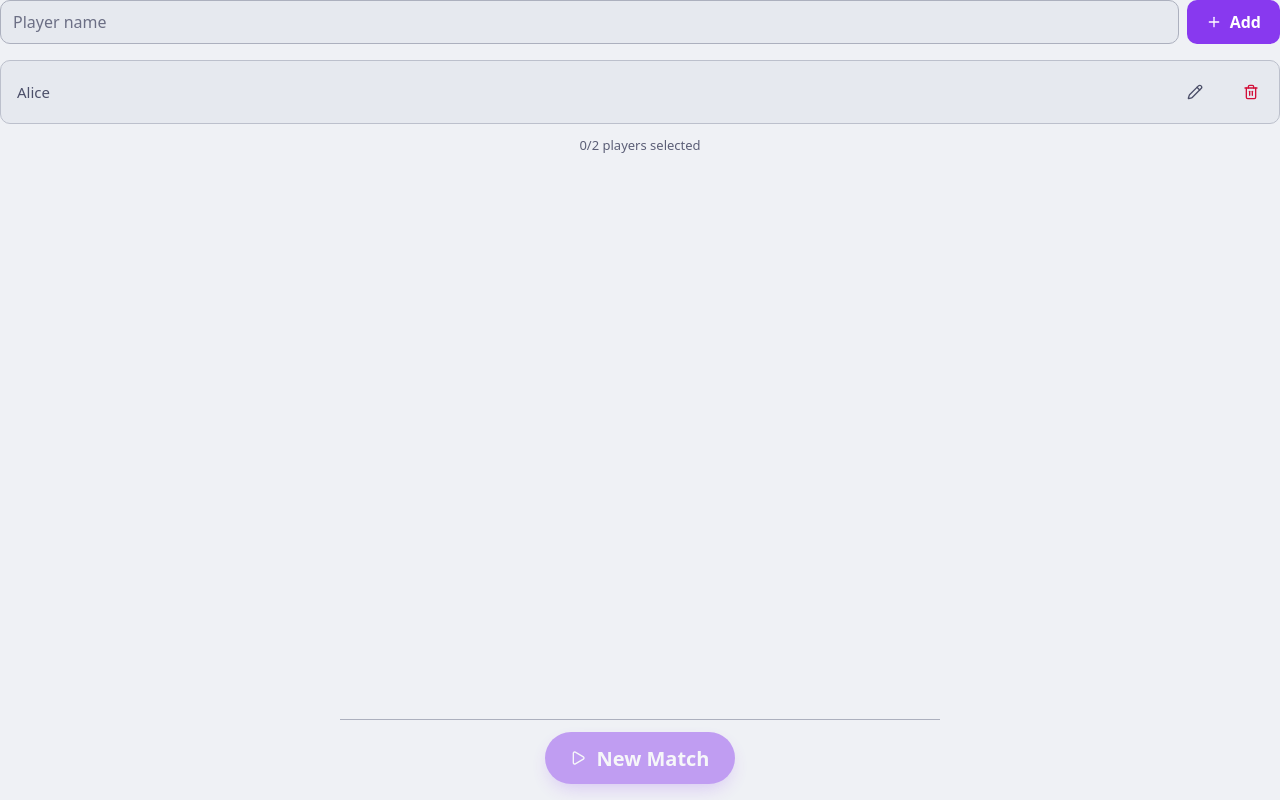
Test case: HomeScreen › deletes a player through the confirmation modal, preserving the name by default
Click the button named "Delete".
click(1251, 92)  # box [1223,61,1279,123]
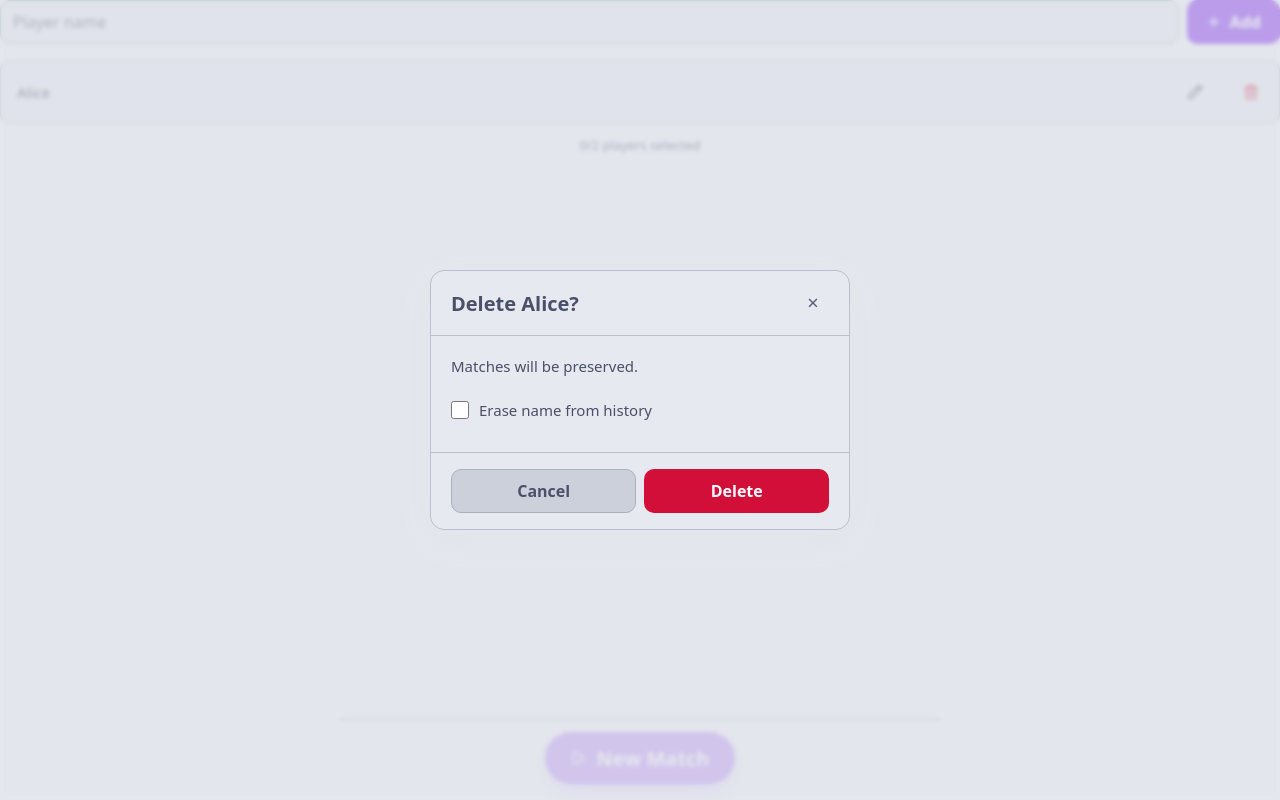
Now the heading "Delete Alice?" is shown, box [451,290,579,316]
Click the button "Delete".
click(737, 491)  # box [644,469,829,513]
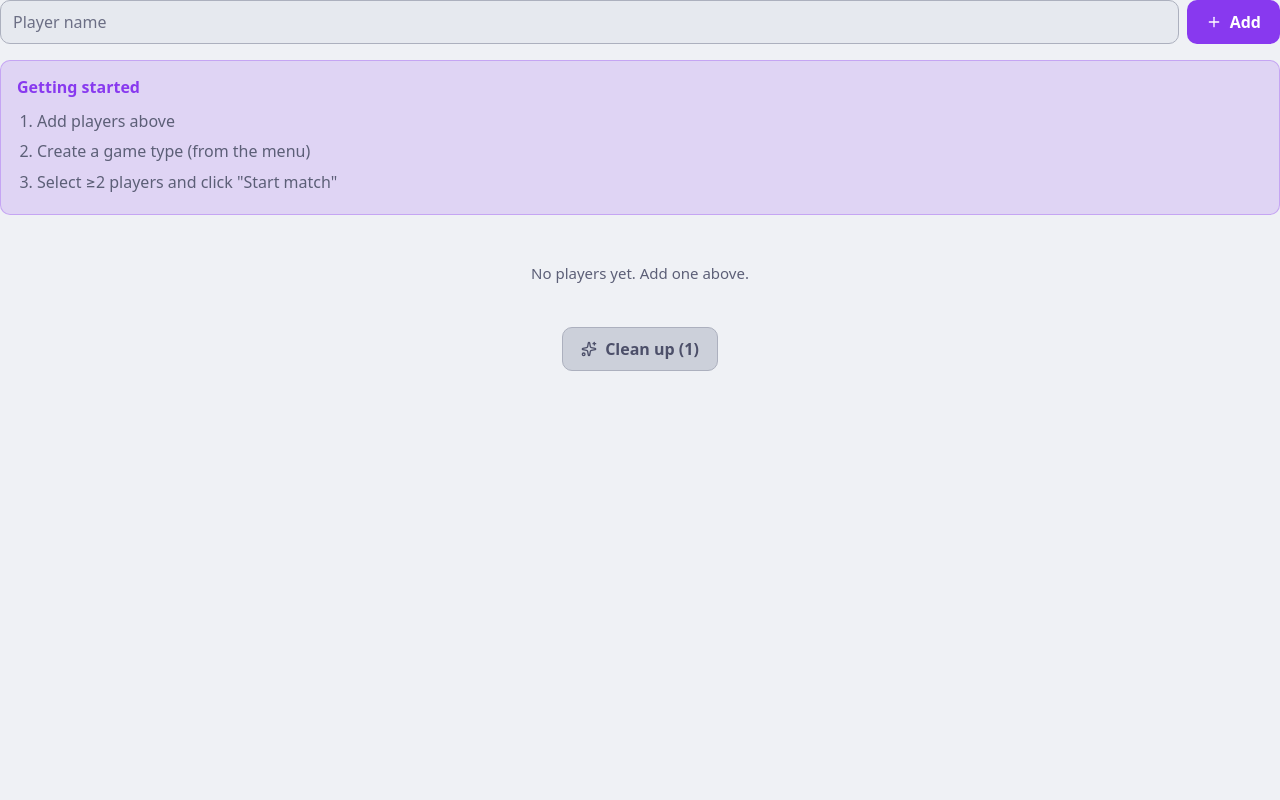
Now the text "No players yet. Add one above." is shown, box [531,263,749,283]
